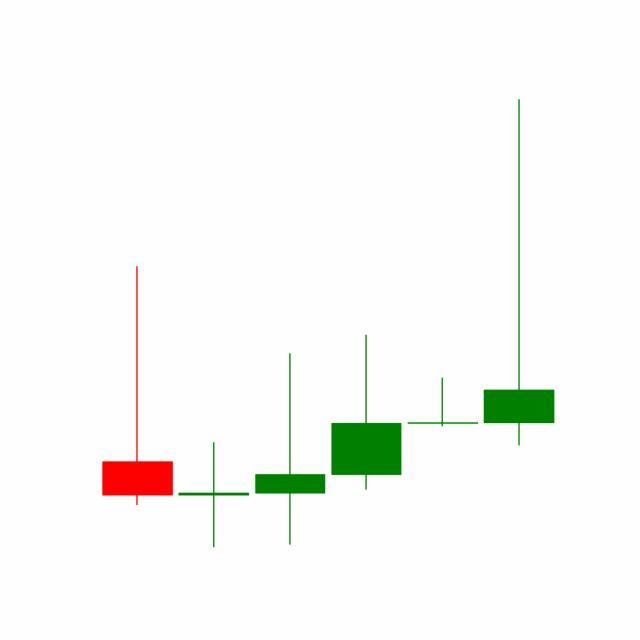Gravestone Doji: (404, 377, 482, 428)
